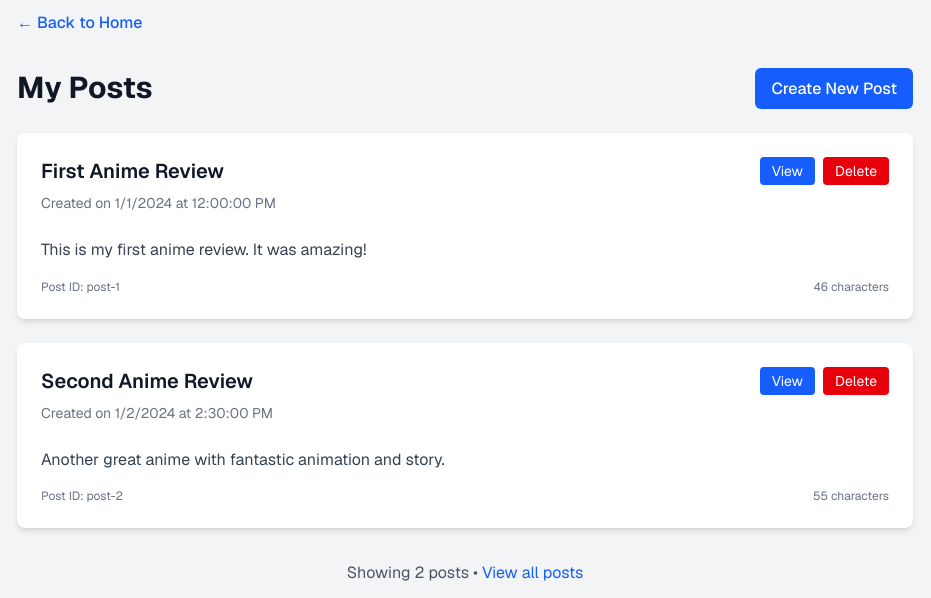
MyPosts › Post Deletion › removes deleted post from the list
The width and height of the screenshot is (931, 598).
Expected: the heading "First Anime Review" is shown, [41, 158, 224, 184]
Expected: the heading "Second Anime Review" is shown, [41, 368, 253, 394]
Step 1. Click the 1st button "Delete" → (856, 171), box [823, 157, 889, 185]
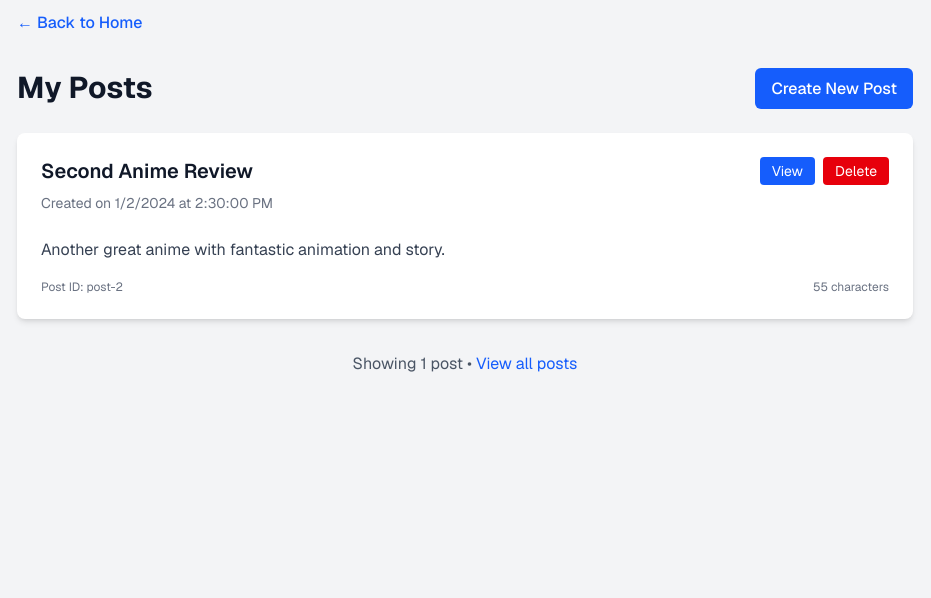
Expected: the heading "Second Anime Review" is shown, [41, 158, 253, 184]
Result: the heading "First Anime Review" is gone
